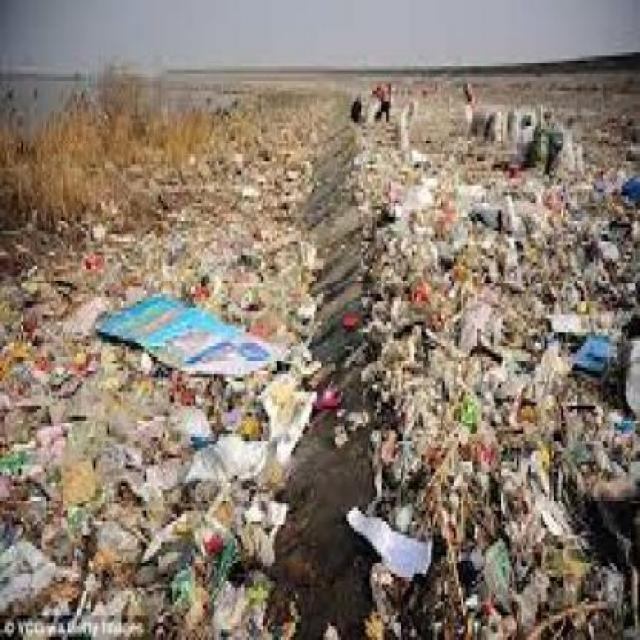garbage: (3, 25, 638, 638)
